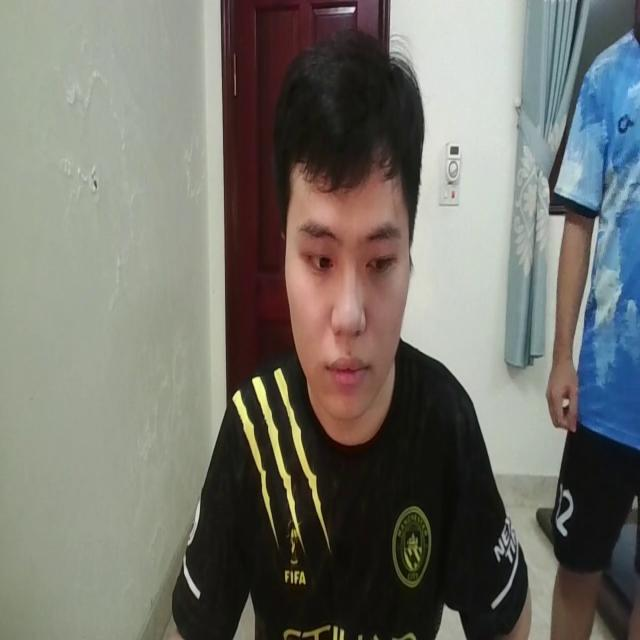extra_person: (537, 0, 640, 640)
student: (166, 34, 530, 640)
